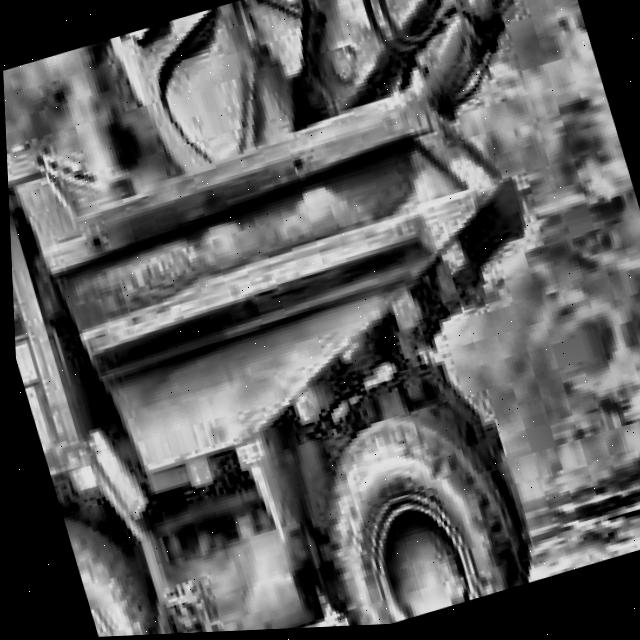dump_truck: (1, 0, 622, 640)
excavator: (105, 0, 640, 636)
